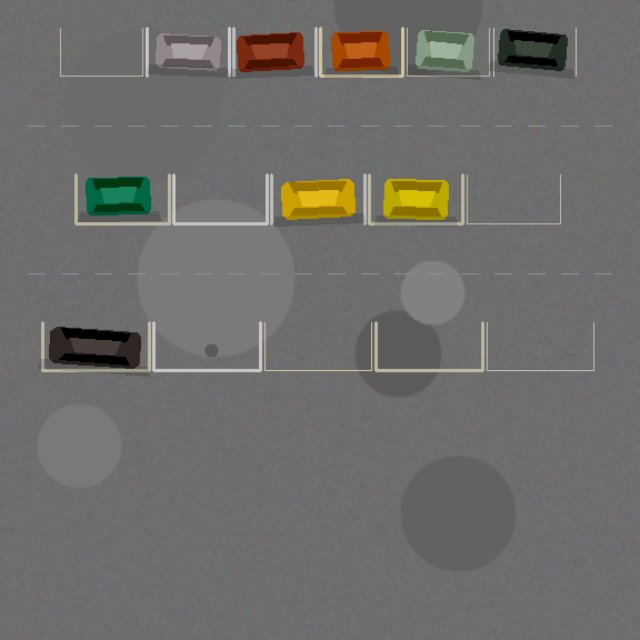space-empty: (153, 322, 260, 370), (264, 322, 371, 370), (376, 322, 482, 370), (487, 322, 593, 370), (173, 174, 267, 223), (467, 174, 560, 223), (60, 28, 142, 76)
space-occupied: (42, 322, 149, 370), (76, 174, 169, 223), (271, 174, 364, 223), (369, 174, 462, 223), (233, 28, 316, 76), (493, 28, 576, 76), (147, 28, 229, 76), (320, 28, 402, 76), (407, 28, 489, 76)
